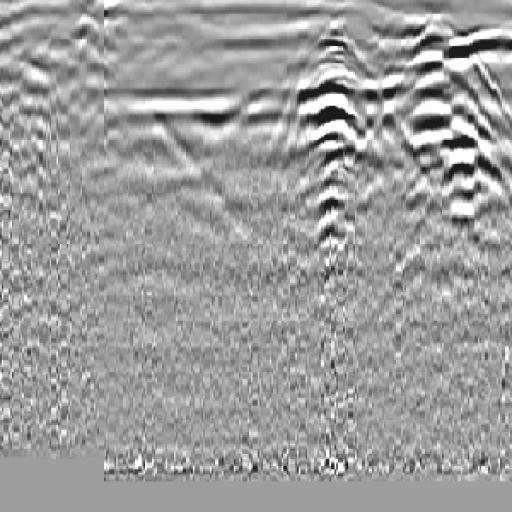metalic: (289, 6, 389, 292)
